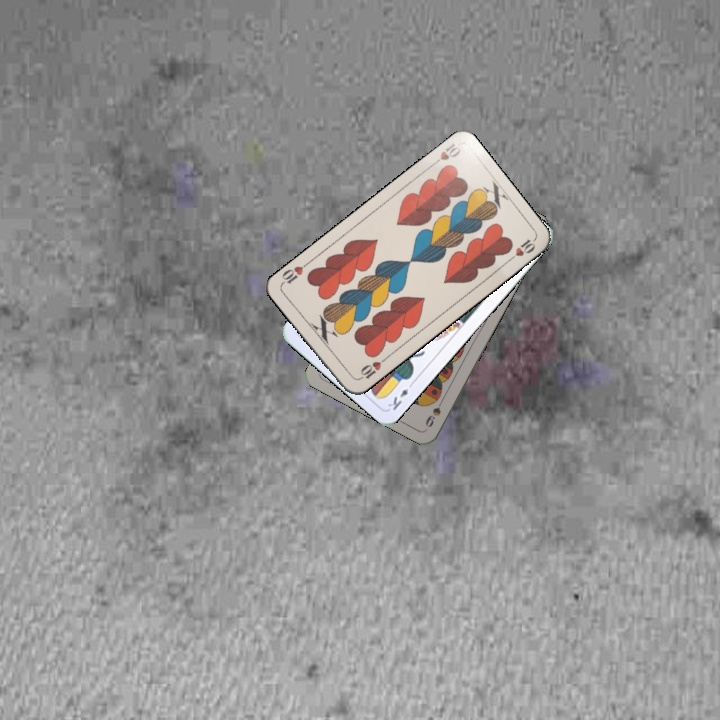EK: (384, 378, 417, 413)
H10: (426, 139, 463, 170), (354, 353, 389, 383)
S9: (421, 391, 447, 430)
